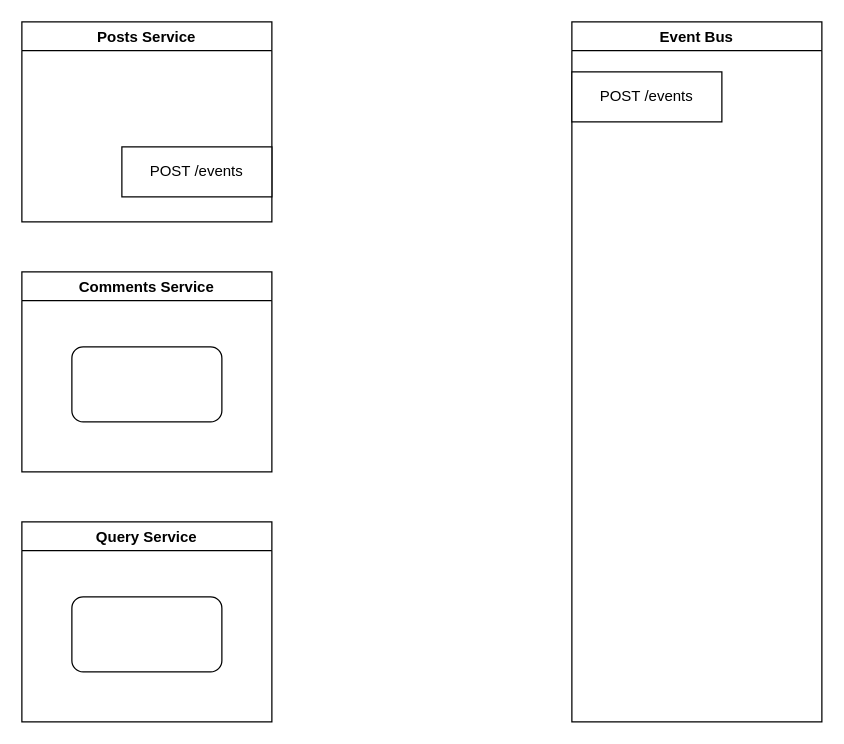
Some shapes in this 844 by 744 pixel diagram are drawn without their labels. The centre of each missing label's shape, as x and y in pixels:
Comments Features: the point at 146,384
Query Features: the point at 146,634
